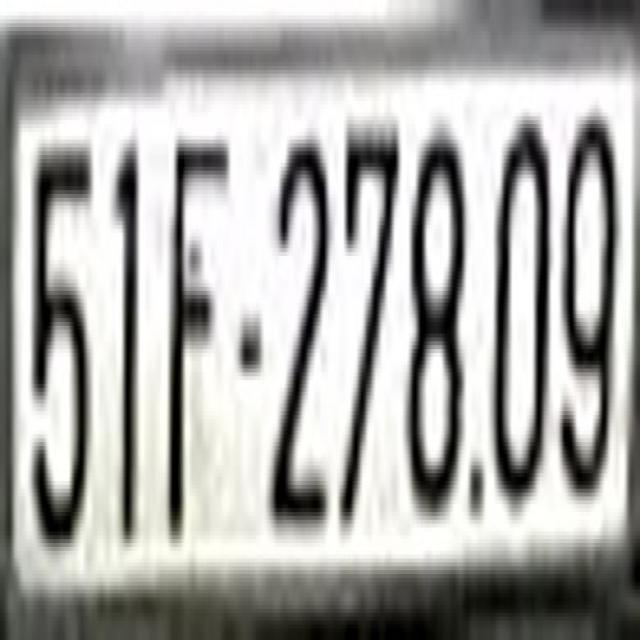0: (488, 108, 552, 504)
1: (112, 124, 144, 551)
2: (268, 104, 329, 532)
5: (34, 140, 92, 562)
7: (336, 104, 399, 532)
8: (406, 97, 464, 500)
9: (559, 108, 618, 516)
F: (165, 109, 228, 544)
